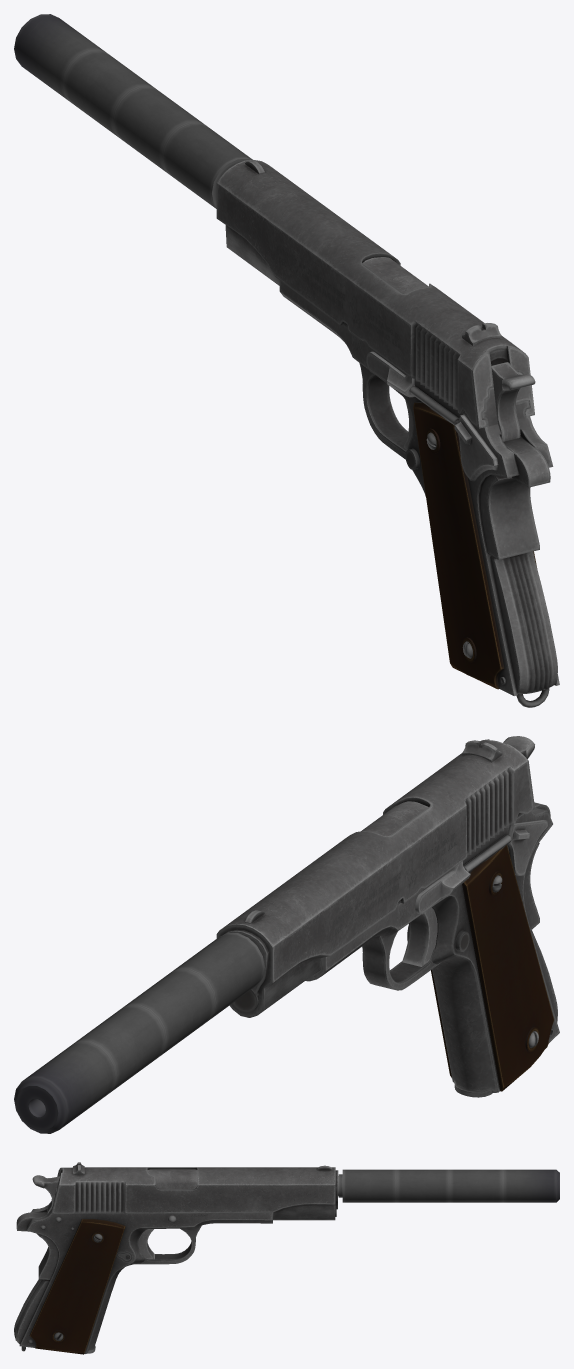
3 views of the same model, one above another, from view 1: azimuth 30°, elevation 25°; view 2: azimuth 150°, elevation 25°; view 3: azimuth 270°, elevation 25° (orthographic). The views are drawn at different scales.
Visible parts, largest first — view 1: body, slide; view 2: body, slide; view 3: body, slide.
Part boxes in pixels (x1=…): body: x1=14, y1=14, x2=559, y2=707; slide: x1=216, y1=160, x2=534, y2=428; body: x1=14, y1=736, x2=559, y2=1133; slide: x1=216, y1=739, x2=534, y2=1017; body: x1=14, y1=1169, x2=559, y2=1354; slide: x1=51, y1=1162, x2=338, y2=1220.
Bounding box in the file's own units: 0.0295 × 0.1362 × 0.362.
2 materials, 2 textured.
